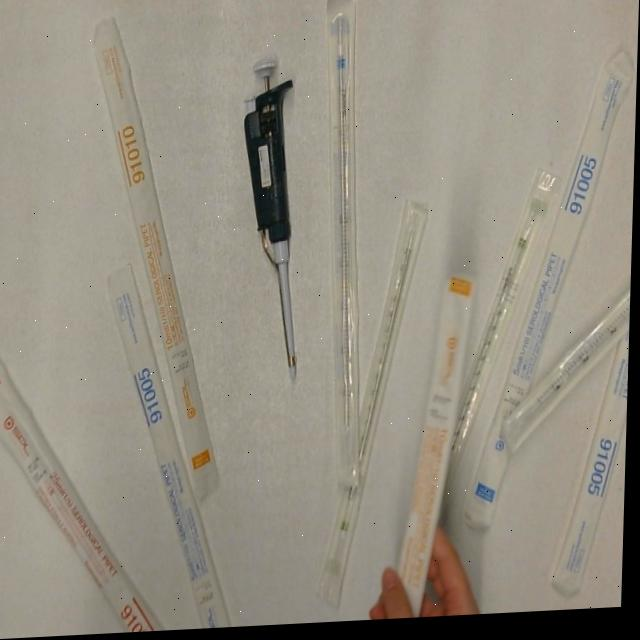Serelogical Pipet 10 mL: (80, 12, 237, 509), (392, 270, 482, 623)
Serelogical Pipet 2 mL: (317, 198, 434, 617), (432, 168, 565, 531)
Serelogical Pipet 25 mL: (0, 337, 181, 640)
Serelogical Pipet 5 mL: (463, 53, 637, 539), (100, 255, 248, 635), (317, 0, 378, 500), (499, 294, 633, 464), (554, 342, 631, 608)
Single Channel Pipettor: (236, 46, 312, 394)
